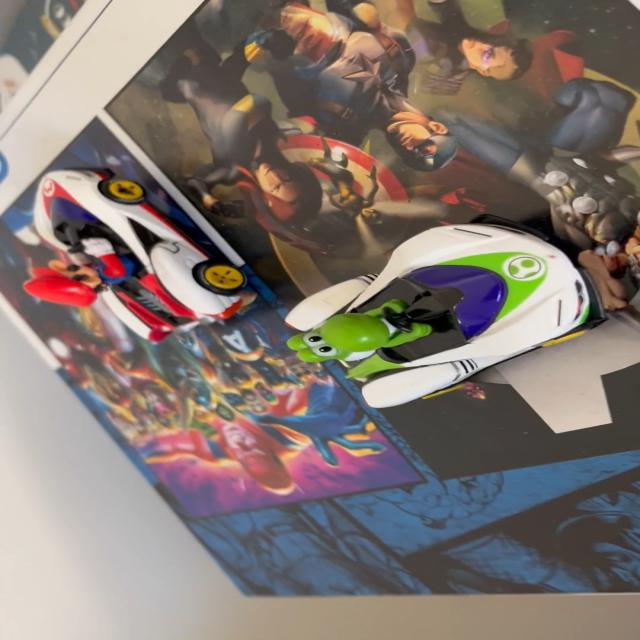mario: (12, 167, 266, 354)
yoshi: (270, 223, 617, 418)
